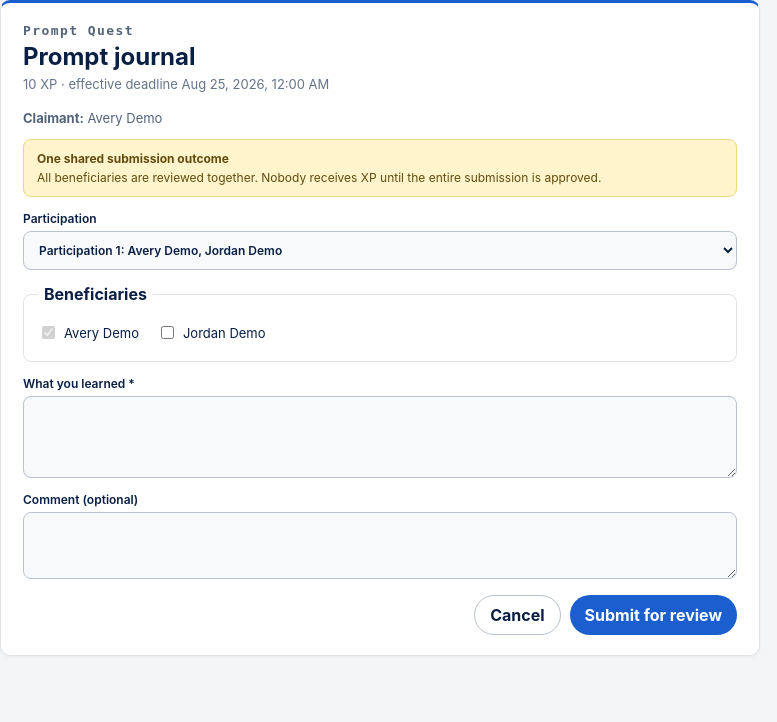
participant workflow › shows deadline/eligibility API failure and never reports false success
Type "Evidence" into the text box labelled "What you learned *". click: {"x": 380, "y": 437}
box: left=23, top=396, right=737, bottom=478
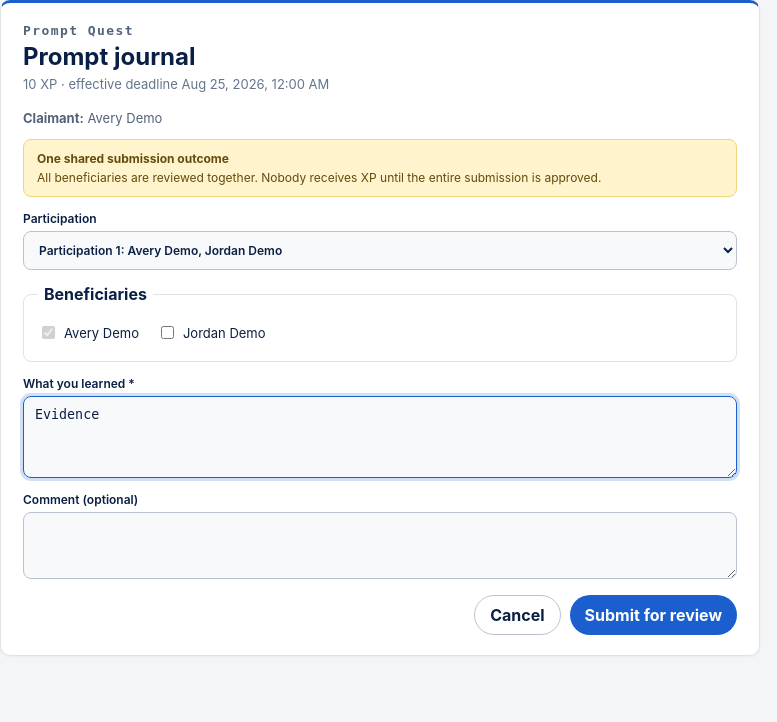
Click the button "Submit for review". click: {"x": 653, "y": 615}
box: left=570, top=595, right=737, bottom=635
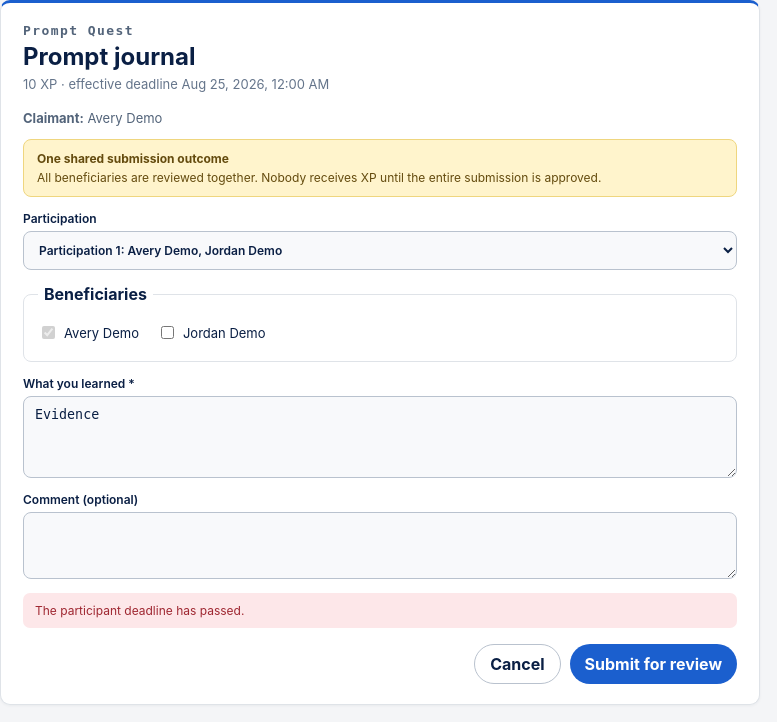
Result: the message shows "deadline has passed" at left=35, top=603, right=244, bottom=618
